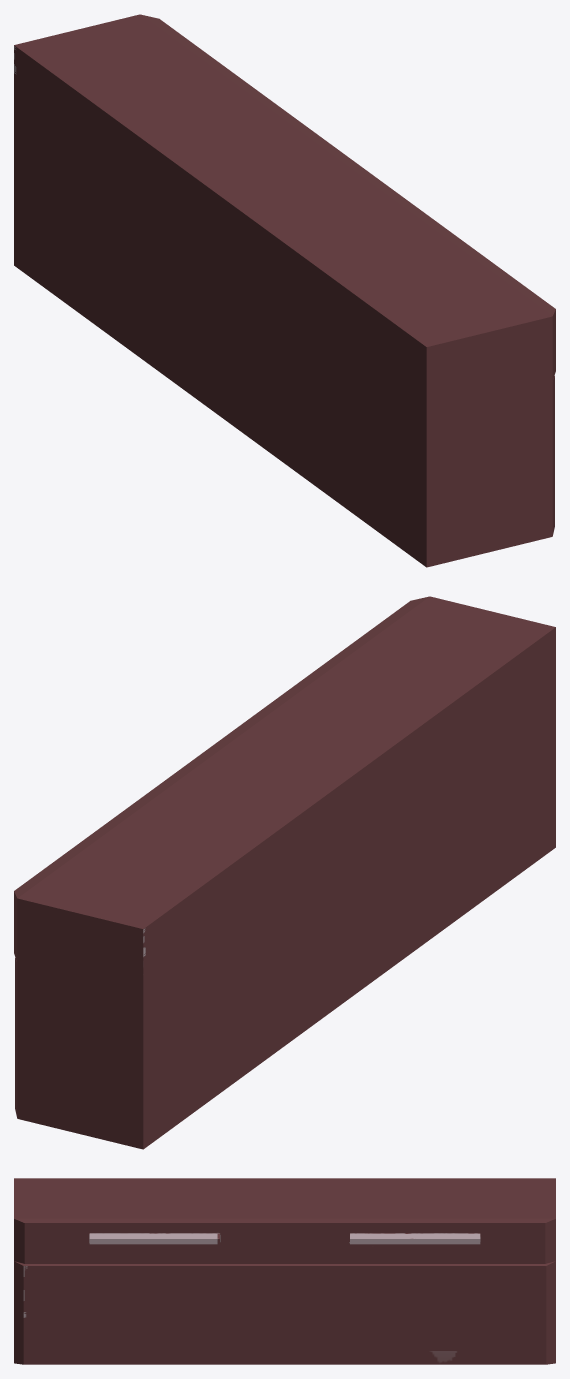
The model's file is counter.fbx.
The picture shows the model from 3 angles, top to bottom: view 1: azimuth 30°, elevation 25°; view 2: azimuth 150°, elevation 25°; view 3: azimuth 270°, elevation 25°; orthographic projection. The views are drawn at different scales.
Visible parts, largest first — view 1: counter; view 2: counter; view 3: counter.
Boxes of the visible parts, left/top/right/bottom form: counter: left=14, top=14, right=555, bottom=567; counter: left=14, top=596, right=555, bottom=1149; counter: left=14, top=1178, right=555, bottom=1364.
Bounding box in the file's own units: 140 × 200 × 679.
Materials: 1 (1 with a texture image).
